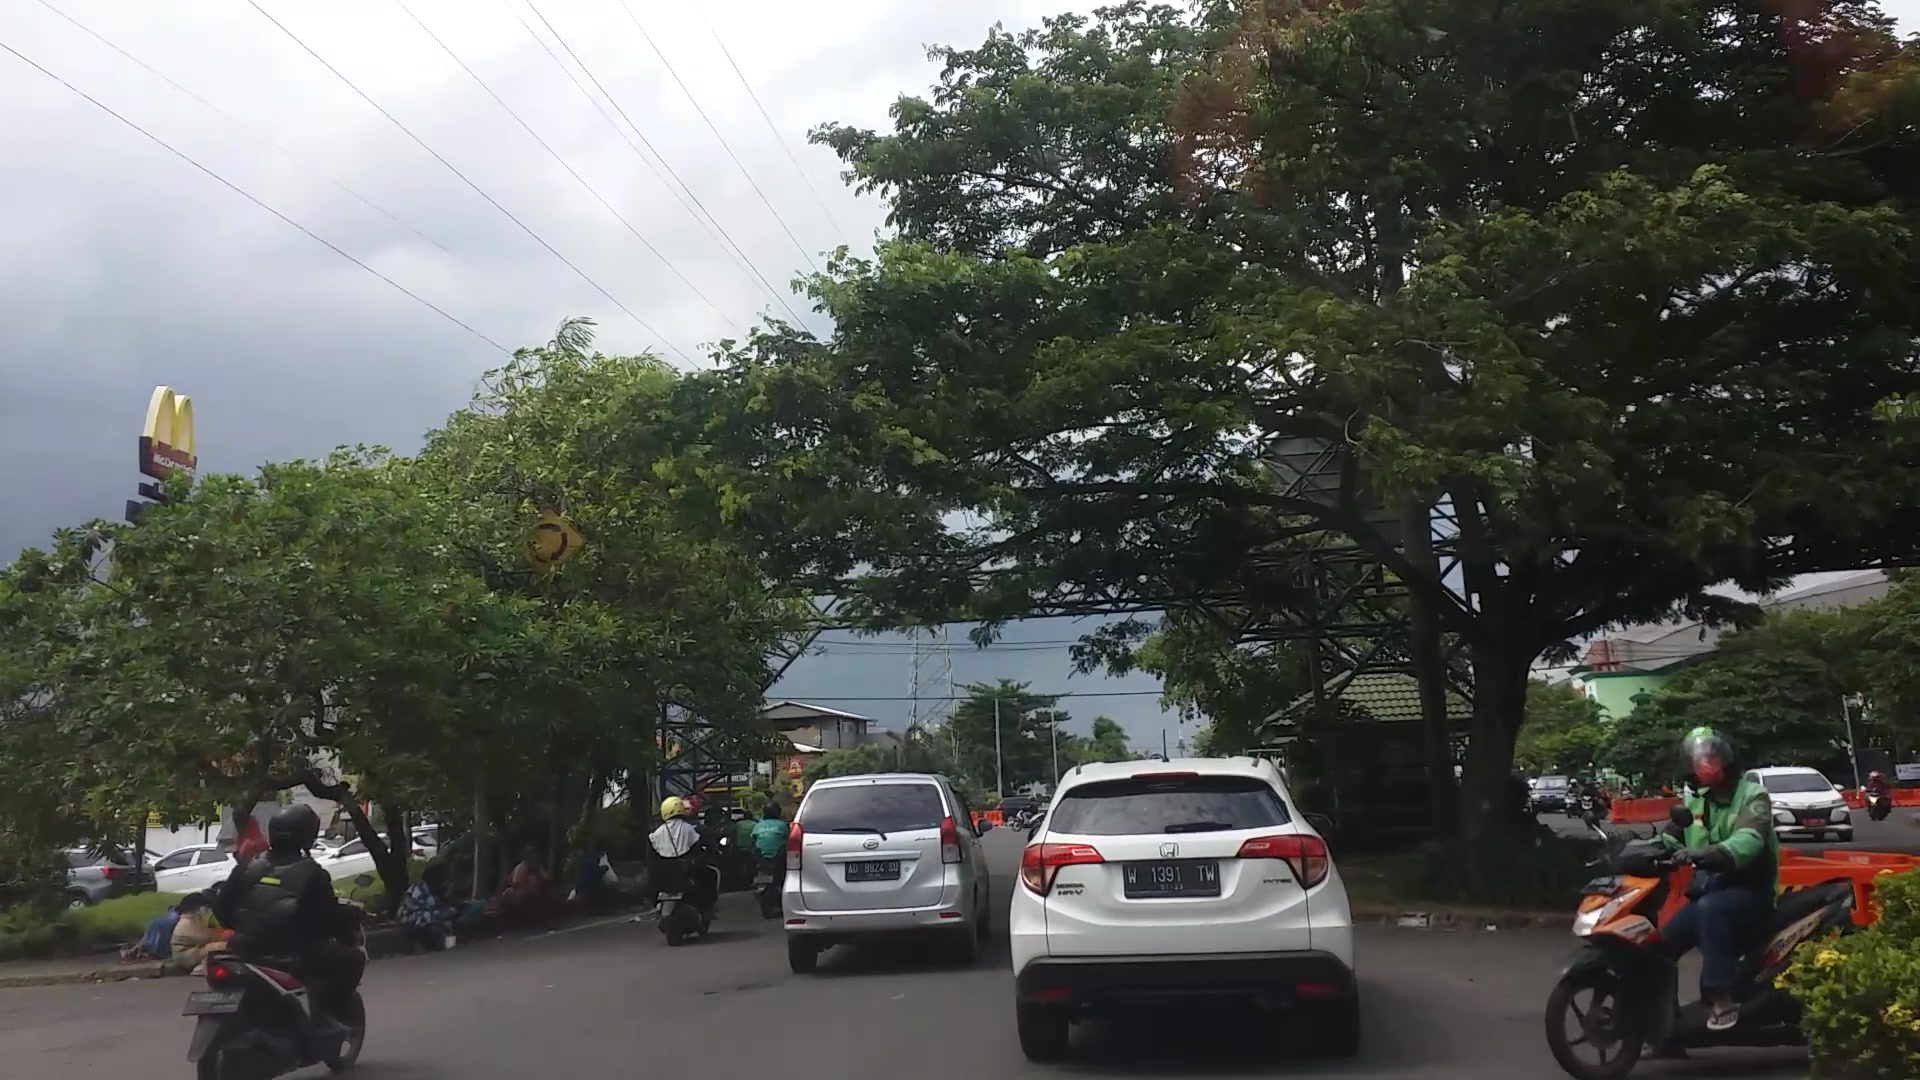plate_positive: (1124, 861, 1220, 897), (847, 861, 901, 880)
